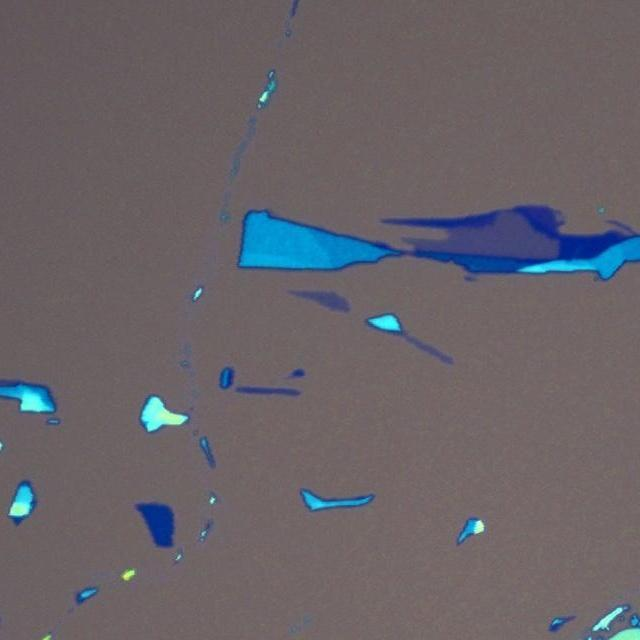monolayer-eWW4: (404, 207, 559, 261), (284, 288, 354, 314), (402, 332, 452, 368)
